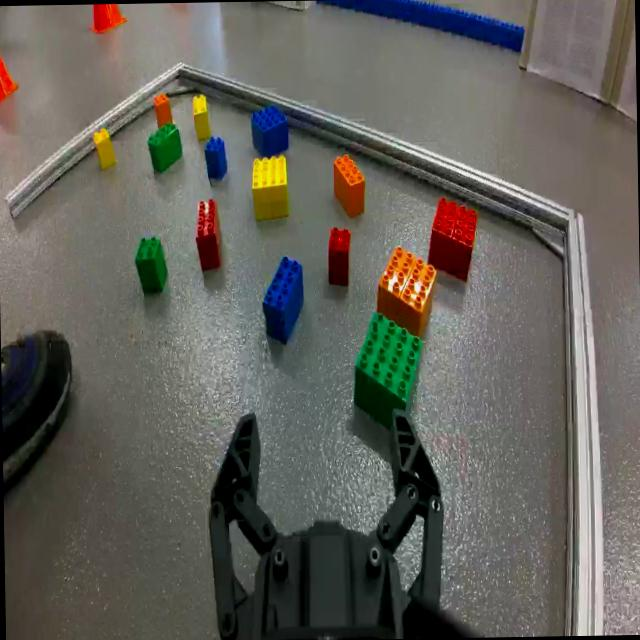block: (250, 154, 288, 222), (92, 125, 114, 175), (192, 90, 211, 142)
blue: (261, 254, 304, 347), (251, 101, 290, 156), (196, 198, 222, 270), (202, 136, 226, 183)
cone: (0, 48, 18, 108), (90, 3, 126, 33)
green: (352, 314, 418, 424), (135, 236, 167, 296), (146, 121, 182, 171)
metal barrier: (2, 57, 605, 636)
orange: (376, 246, 436, 333), (333, 149, 366, 218), (152, 93, 175, 126)
red goal: (426, 193, 478, 285), (327, 226, 350, 283)
river: (318, 0, 524, 53)
storage cube: (517, 0, 631, 109), (607, 0, 636, 124), (266, 1, 316, 12)
